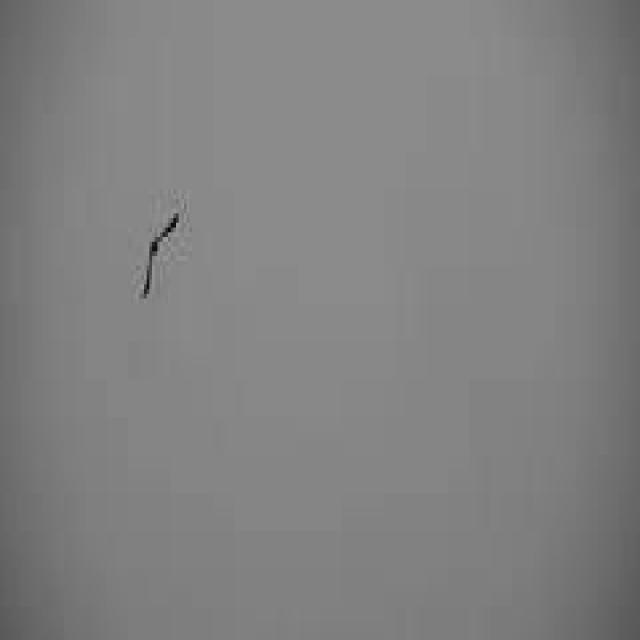bird: (141, 209, 181, 303)
